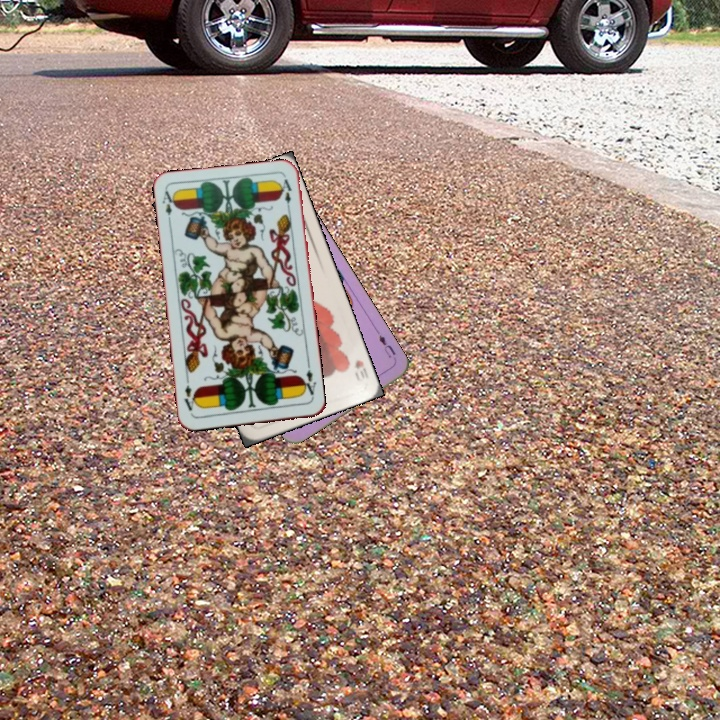EA: (298, 361, 318, 402), (158, 187, 178, 227)
EU: (373, 327, 399, 365)
H10: (350, 356, 371, 383)
